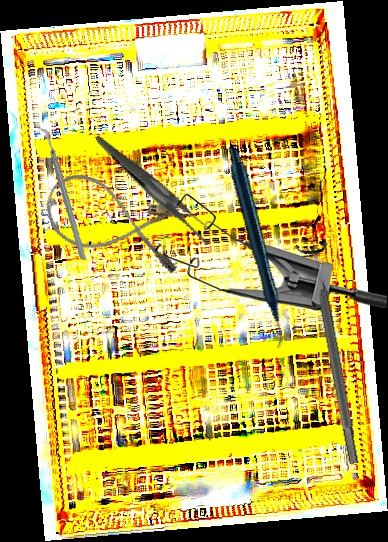Cannula: (35, 166, 196, 279)
Chopper: (21, 125, 102, 261)
Dressing Forceps: (95, 109, 218, 267)
Fixation Ring: (293, 239, 372, 467)
Handpiece: (166, 147, 343, 349)
Speculum: (155, 193, 387, 311)
